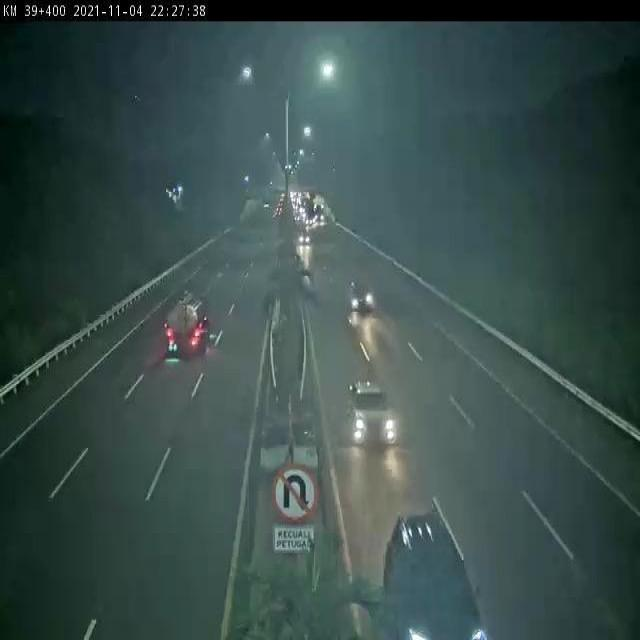car: (383, 510, 485, 640), (346, 380, 396, 448), (348, 283, 373, 312)
truck-l-: (167, 297, 209, 356)
